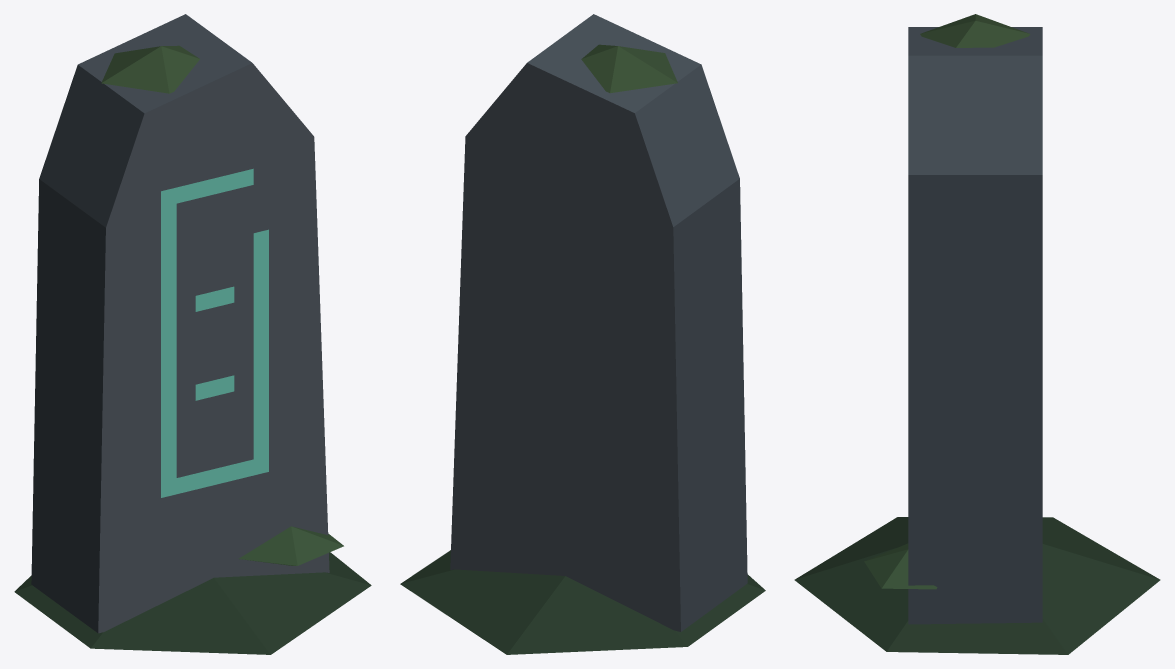
The model's file is rune_stone_small.glb.
The picture shows the model from 3 angles, left to right: view 1: azimuth 30°, elevation 25°; view 2: azimuth 150°, elevation 25°; view 3: azimuth 270°, elevation 25°; orthographic projection.
Visible parts, largest first — view 1: rune_stone_small, Rune_glow; view 2: rune_stone_small; view 3: rune_stone_small.
Part boxes in pixels (x1,y1,x2,y2): rune_stone_small: (14, 14, 371, 654); Rune_glow: (161, 168, 268, 497); rune_stone_small: (400, 14, 765, 654); rune_stone_small: (794, 14, 1160, 654).
Size of the model in its own units: 0.7304 by 1.5 by 0.8195.
